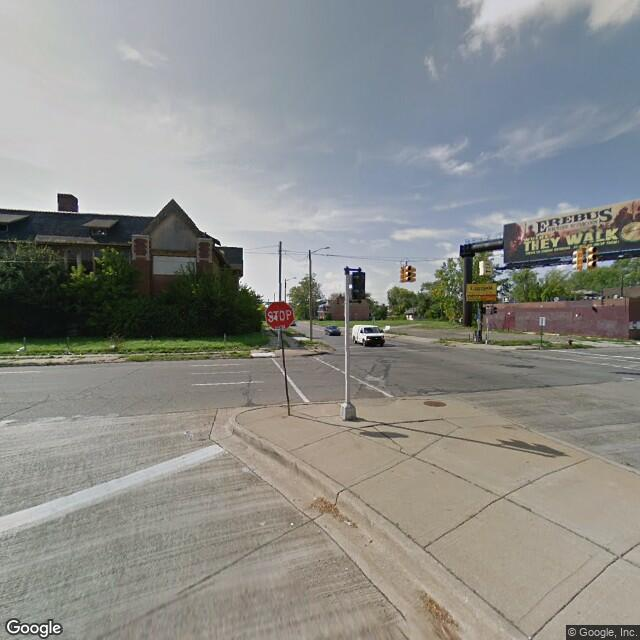litter: (341, 519, 354, 527), (15, 346, 27, 352), (311, 494, 319, 502), (109, 344, 117, 352)
